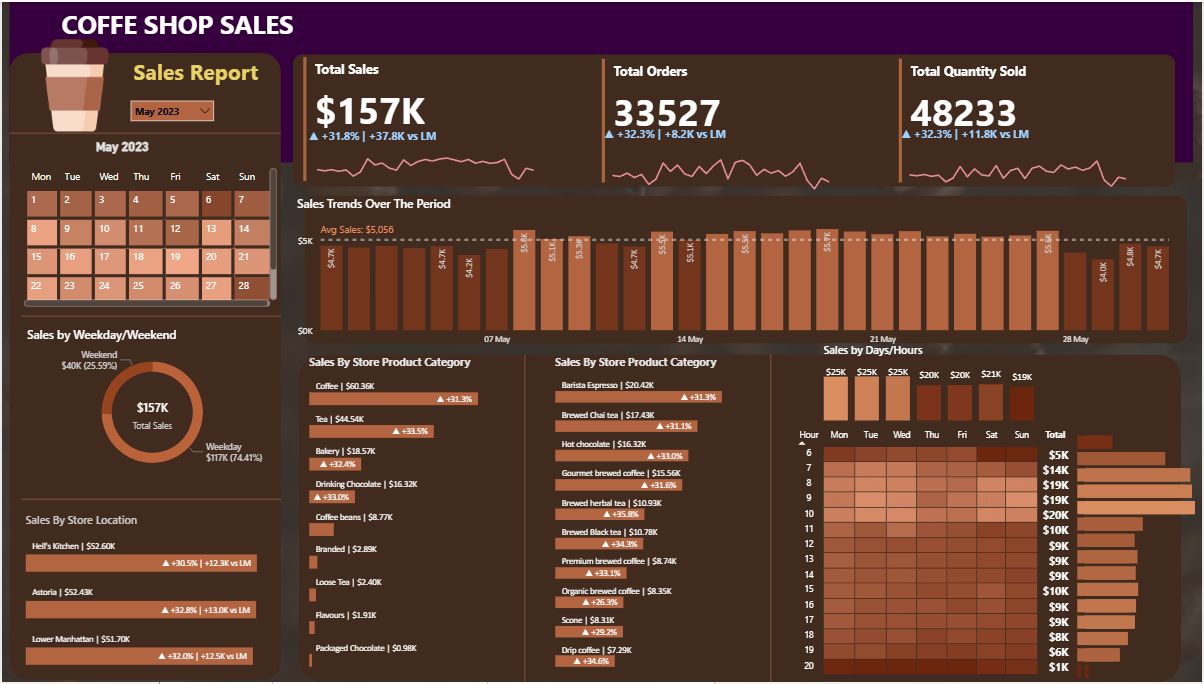

This screenshot's page, from the dashboard's own definition file:
{"tool":"powerbi","page":{"name":"Page 1","canvas":[1500,850],"ordinal":0},"visuals":[{"type":"shape","box":[9.4,0,1480.5,200.8],"z":0},{"type":"shape","box":[9.4,63.8,339.6,784.3],"z":1000},{"type":"shape","box":[364,65.7,1103.3,165.1],"z":2000},{"type":"textbox","box":[69.4,0,320.9,56.3],"z":3000},{"type":"cardVisual","fields":{"Data":["Transactions.Total Sales"]},"box":[371.5,63.8,315.2,165.1],"z":4000,"group":"g1"},{"type":"cardVisual","fields":{"Data":["Transactions.Total Orders"]},"box":[744,65.7,315.2,165.1],"z":4000,"group":"g2"},{"type":"cardVisual","fields":{"Data":["Transactions.Total Quantity Sold"]},"box":[1116.4,65.7,315.2,165.1],"z":4000,"group":"g3"},{"type":"slicer","fields":{"Values":["Date Table.Month Year"]},"box":[155.7,118.2,114.5,39.4],"z":4000},{"type":"group","id":"g1","title":"Group 1","box":[371.5,63.8,315.2,178.3],"z":5000},{"type":"group","id":"g2","title":"Group 1","box":[744,65.7,315.2,174.5],"z":6000},{"type":"lineChart","fields":{"Category":["Date Table.Date.Variation.Date Hierarchy.Year","Date Table.Date.Variation.Date Hierarchy.Quarter","Date Table.Date.Variation.Date Hierarchy.Month","Date Table.Date.Variation.Date Hierarchy.Day"],"Y":["Transactions.Total Orders"]},"box":[748.3,156.3,300.2,84.4],"z":6000,"group":"g2"},{"type":"lineChart","fields":{"Category":["Date Table.Date.Variation.Date Hierarchy.Year","Date Table.Date.Variation.Date Hierarchy.Quarter","Date Table.Date.Variation.Date Hierarchy.Month","Date Table.Date.Variation.Date Hierarchy.Day"],"Y":["Transactions.Total Quantity Sold"]},"box":[1120.7,156.3,300.2,84.4],"z":6000,"group":"g3"},{"type":"lineChart","fields":{"Category":["Date Table.Date.Variation.Date Hierarchy.Year","Date Table.Date.Variation.Date Hierarchy.Quarter","Date Table.Date.Variation.Date Hierarchy.Month","Date Table.Date.Variation.Date Hierarchy.Day"],"Y":["Transactions.Total Sales"]},"box":[379,157.6,300.2,84.4],"z":6000,"group":"g1"},{"type":"group","id":"g3","title":"Group 1","box":[1116.4,65.7,315.2,174.5],"z":7000},{"type":"pivotTable","fields":{"Rows":["Date Table.WeEk Number"],"Columns":["Date Table.Day Name"],"Values":["Min(Date Table.Day Number)"]},"box":[22,202,326.5,183.9],"z":8000},{"type":"card","fields":{"Values":["Min(Date Table.Month Year)"]},"box":[69.4,140.7,161.4,80.7],"z":9000},{"type":"shape","box":[24.4,380.9,324.6,24.4],"z":10000},{"type":"shape","box":[9.4,148.2,339.6,31.9],"z":11000},{"type":"donutChart","title":"Sales by Weekday/Weekend","fields":{"Category":["Date Table.Weekday/Weekend"],"Y":["Transactions.Total Sales"]},"box":[26.3,405.3,322.7,195.1],"z":12000},{"type":"card","fields":{"Values":["Transactions.Total Sales"]},"box":[138.9,489.7,97.6,52.5],"z":13000},{"type":"shape","box":[24.4,606.1,324.6,31.9],"z":14000},{"type":"clusteredBarChart","title":"Sales By Store Location","fields":{"Category":["Transactions.store_location"],"Y":["Transactions.Placeholder","Transactions.Total Sales"]},"box":[24.4,638,324.6,198.9],"z":15000},{"type":"shape","box":[371.5,440.9,1103.3,409.1],"z":16000},{"type":"shape","box":[379,242.1,1103.3,185],"z":17000},{"type":"columnChart","title":"Sales Trends Over The Period","fields":{"Category":["Transactions.transaction_date"],"Y":["Transactions.Total Sales"]},"box":[364,242.1,1103.3,195.1],"z":18000},{"type":"clusteredBarChart","title":"Sales By Store Product Category","fields":{"Y":["Transactions.Placeholder","Transactions.Total Sales"],"Category":["Transactions.product_category"]},"box":[379,440.9,249.6,395.9],"z":19000},{"type":"shape","box":[628.6,440.9,50.7,409.1],"z":20000},{"type":"clusteredBarChart","title":"Sales By Store Product Category","fields":{"Y":["Transactions.Placeholder","Transactions.Total Sales"],"Category":["Transactions.product_type"]},"box":[686.8,440.9,249.6,395.9],"z":21000},{"type":"shape","box":[936.3,440.9,50.7,409.1],"z":22000},{"type":"pivotTable","fields":{"Rows":["Transactions.Hour"],"Columns":["Date Table.Day Name"],"Values":["Transactions.Total Sales"]},"box":[987,529.1,369.6,320.9],"z":23000},{"type":"barChart","fields":{"Category":["Transactions.Hour"],"Y":["Transactions.Total Sales"]},"box":[1339.7,529.1,150.1,320.9],"z":24000},{"type":"columnChart","title":"Sales by Days/Hours","fields":{"Y":["Transactions.Total Sales"],"Category":["Date Table.Day Name"]},"box":[1022.6,425.9,274,103.2],"z":25000},{"type":"barChart","fields":{"Category":["Transactions.Hour"],"Y":["Transactions.Total Sales"]},"box":[1349.7,529.1,150.1,320.9],"z":26000},{"type":"barChart","fields":{"Category":["Transactions.Hour"],"Y":["Transactions.Total Sales"]},"box":[1349.9,529.1,150.1,320.9],"z":27000},{"type":"textbox","box":[159.5,63.8,189.5,48.8],"z":28000},{"type":"image","box":[22.5,41.3,137,125.7],"z":29000}]}

Visuals, with their boxes in screenshot pixels (x1, y1, x2, y2), scaled from the page's 1500x850 canvas onto the 1204x684 screenshot:
shape: <region>8, 0, 1196, 162</region>
shape: <region>8, 51, 280, 682</region>
shape: <region>292, 53, 1178, 186</region>
textbox: <region>56, 0, 313, 45</region>
cardVisual - Transactions.Total Sales: <region>298, 51, 551, 184</region>
cardVisual - Transactions.Total Orders: <region>597, 53, 850, 186</region>
cardVisual - Transactions.Total Quantity Sold: <region>896, 53, 1149, 186</region>
slicer - Date Table.Month Year: <region>125, 95, 217, 127</region>
"Group 1" group: <region>298, 51, 551, 195</region>
"Group 1" group: <region>597, 53, 850, 193</region>
lineChart - Date Table.Date.Variation.Date Hierarchy.Year x Date Table.Date.Variation.Date Hierarchy.Quarter: <region>601, 126, 842, 194</region>
lineChart - Date Table.Date.Variation.Date Hierarchy.Year x Date Table.Date.Variation.Date Hierarchy.Quarter: <region>900, 126, 1141, 194</region>
lineChart - Date Table.Date.Variation.Date Hierarchy.Year x Date Table.Date.Variation.Date Hierarchy.Quarter: <region>304, 127, 545, 195</region>
"Group 1" group: <region>896, 53, 1149, 193</region>
pivotTable - Date Table.WeEk Number x Date Table.Day Name: <region>18, 163, 280, 311</region>
card - Min(Date Table.Month Year): <region>56, 113, 185, 178</region>
shape: <region>20, 307, 280, 326</region>
shape: <region>8, 119, 280, 145</region>
"Sales by Weekday/Weekend" donutChart: <region>21, 326, 280, 483</region>
card - Transactions.Total Sales: <region>111, 394, 190, 436</region>
shape: <region>20, 488, 280, 513</region>
"Sales By Store Location" clusteredBarChart: <region>20, 513, 280, 673</region>
shape: <region>298, 355, 1184, 683</region>
shape: <region>304, 195, 1190, 344</region>
"Sales Trends Over The Period" columnChart: <region>292, 195, 1178, 352</region>
"Sales By Store Product Category" clusteredBarChart: <region>304, 355, 505, 673</region>
shape: <region>505, 355, 545, 683</region>
"Sales By Store Product Category" clusteredBarChart: <region>551, 355, 752, 673</region>
shape: <region>752, 355, 792, 683</region>
pivotTable - Transactions.Hour x Date Table.Day Name: <region>792, 426, 1089, 683</region>
barChart - Transactions.Hour x Transactions.Total Sales: <region>1075, 426, 1196, 683</region>
"Sales by Days/Hours" columnChart: <region>821, 343, 1041, 426</region>
barChart - Transactions.Hour x Transactions.Total Sales: <region>1083, 426, 1203, 683</region>
barChart - Transactions.Hour x Transactions.Total Sales: <region>1084, 426, 1203, 683</region>
textbox: <region>128, 51, 280, 91</region>
image: <region>18, 33, 128, 134</region>
